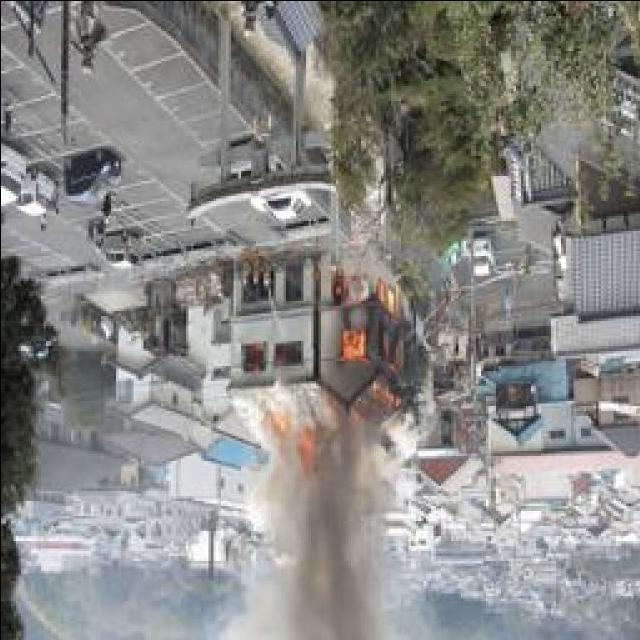Fire: (338, 268, 404, 404)
